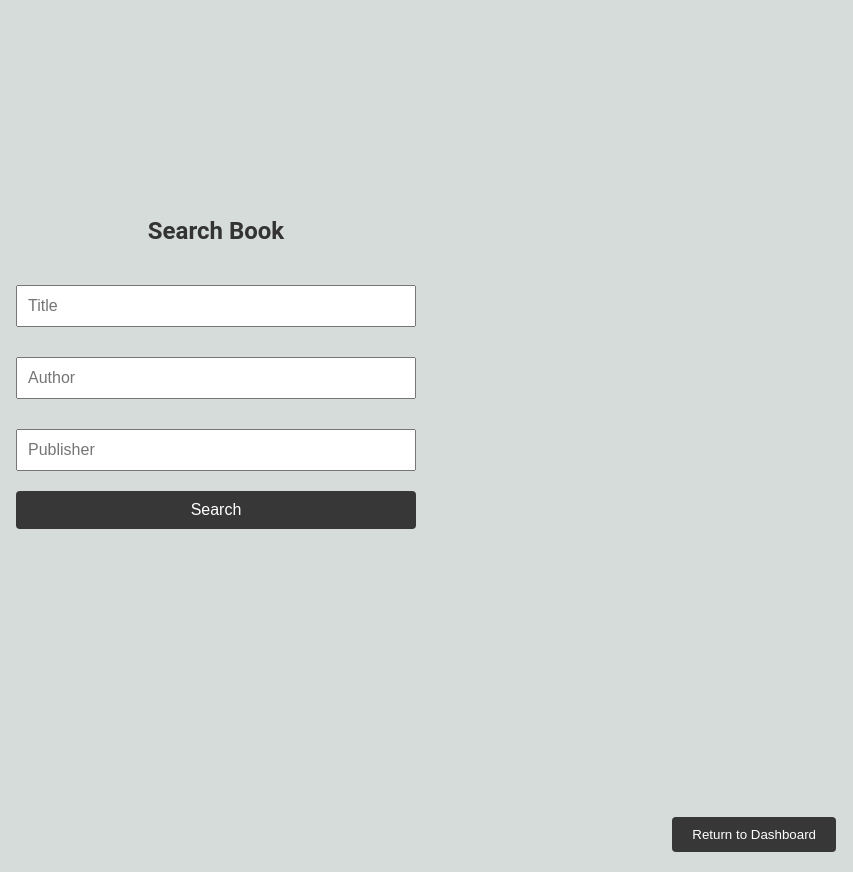
Test: SearchBook Component › displays search results after a successful search
# simulate filling in the search fields and submitting the form
In the field with placeholder "Title": (216, 306) top-left (16, 285), bottom-right (416, 327), type "Test Book"
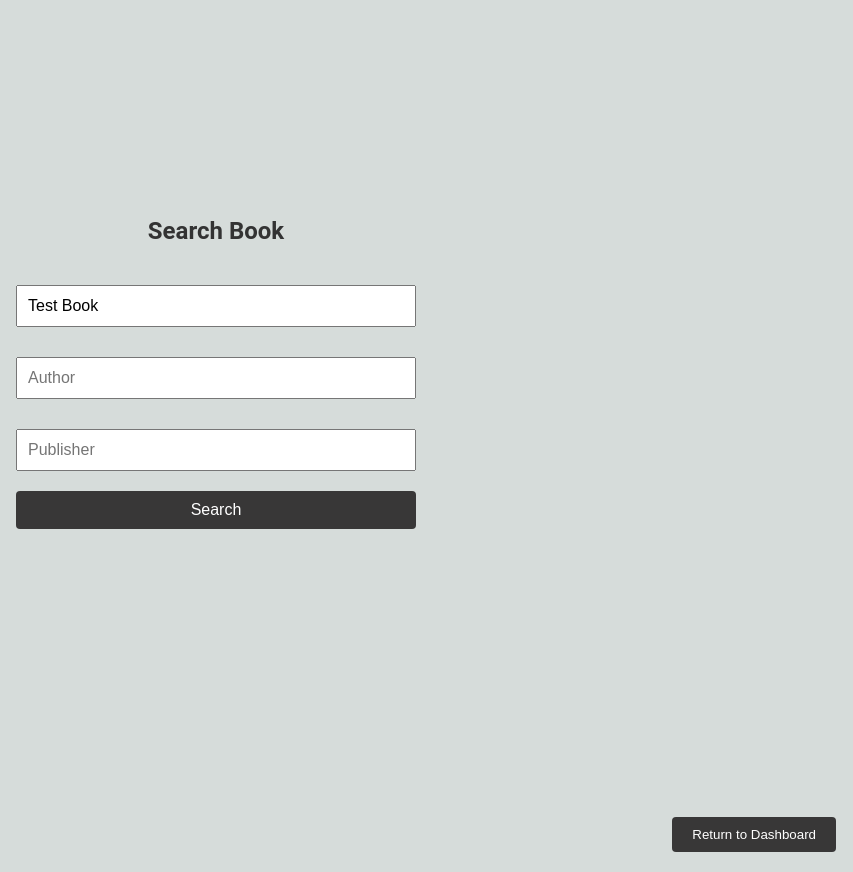
In the field with placeholder "Author": (216, 378) top-left (16, 357), bottom-right (416, 399), type "Test Author"
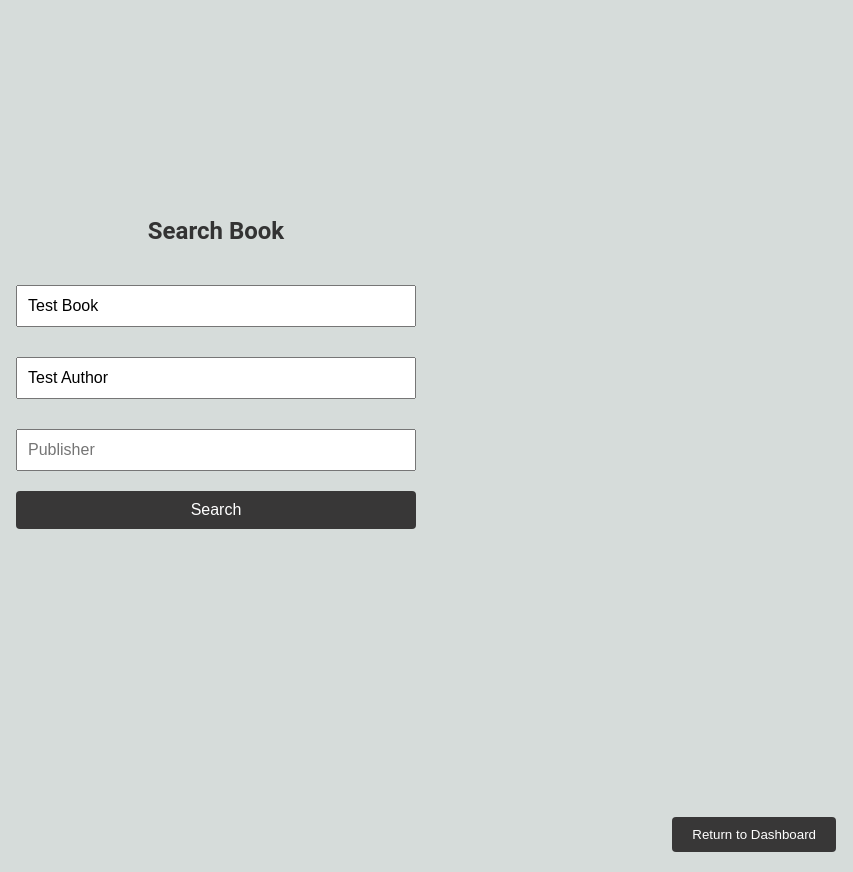
In the field with placeholder "Publisher": (216, 450) top-left (16, 429), bottom-right (416, 471), type "Test Publisher"
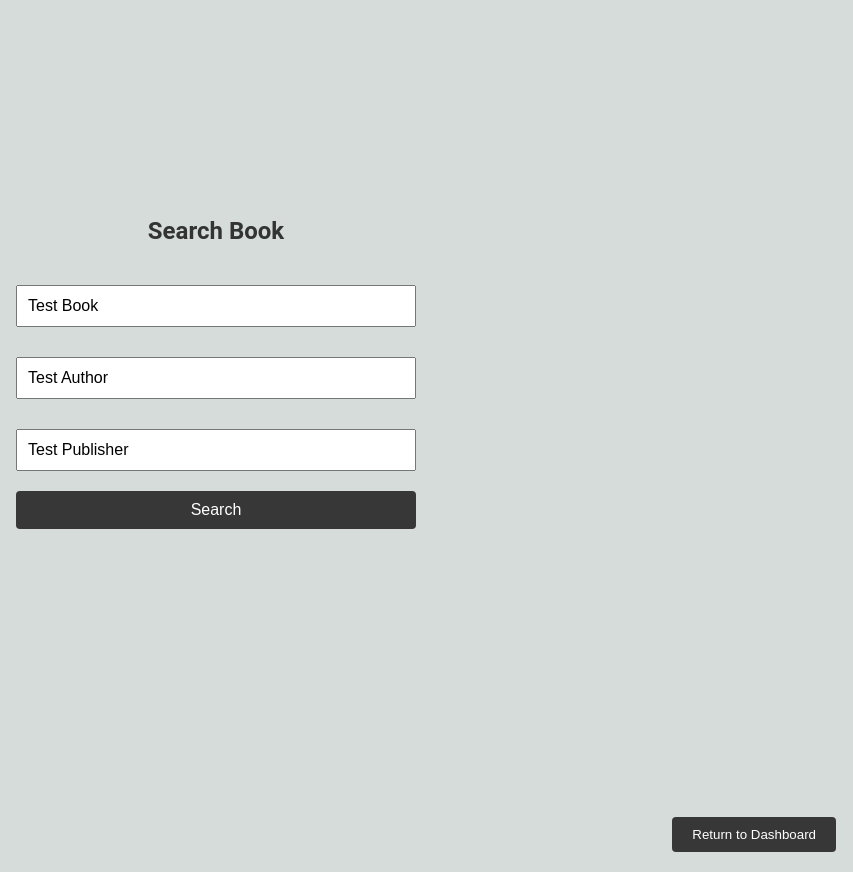
Click the button "Search": (216, 510) top-left (16, 491), bottom-right (416, 529)
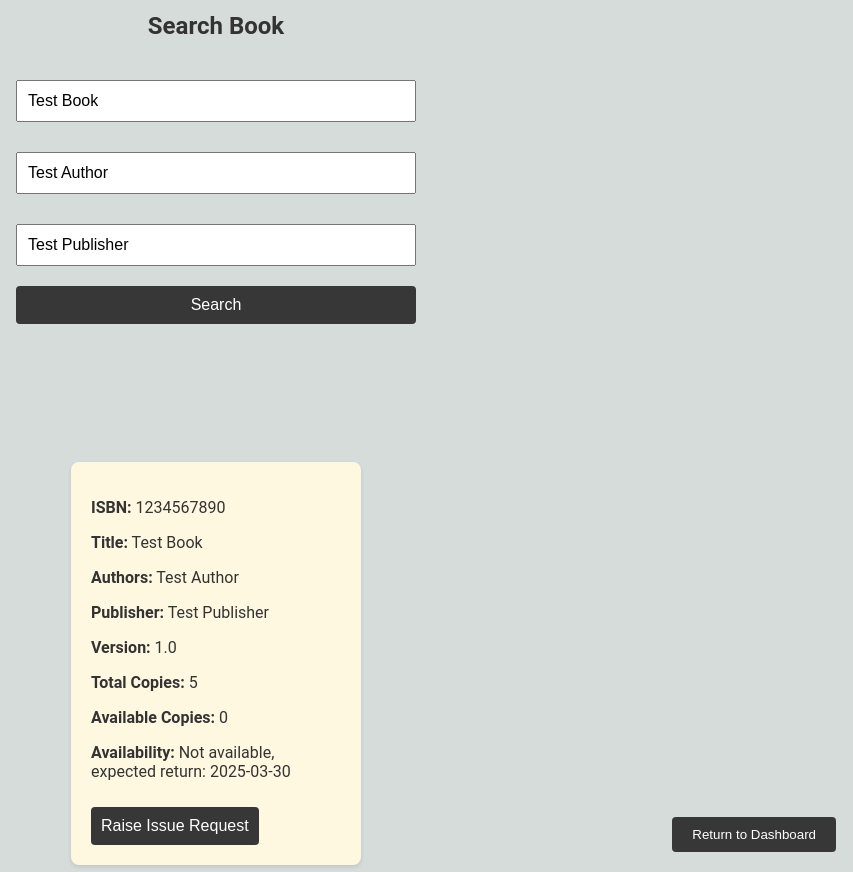
Expected: the text "Title: Test Book" is shown, top-left (91, 533), bottom-right (203, 552)
Expected: the text "Availability: Not available, expected return: 2025-03-30" is shown, top-left (91, 743), bottom-right (291, 781)
